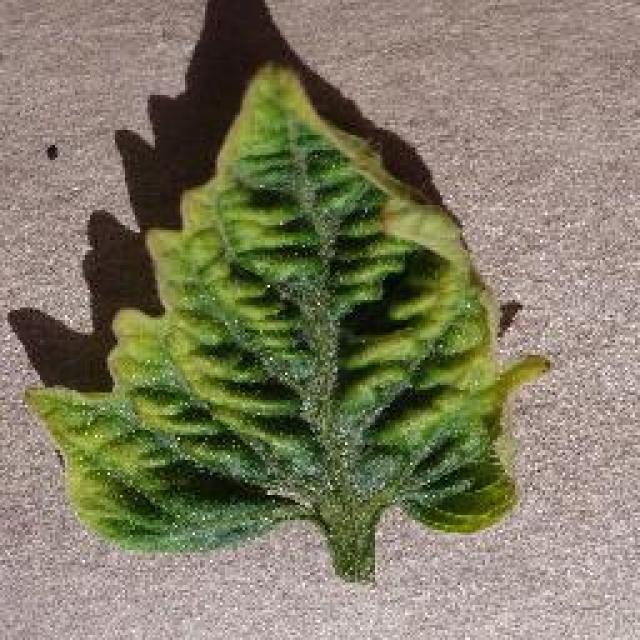Tomato yellow virus leaf: (24, 68, 552, 557)
